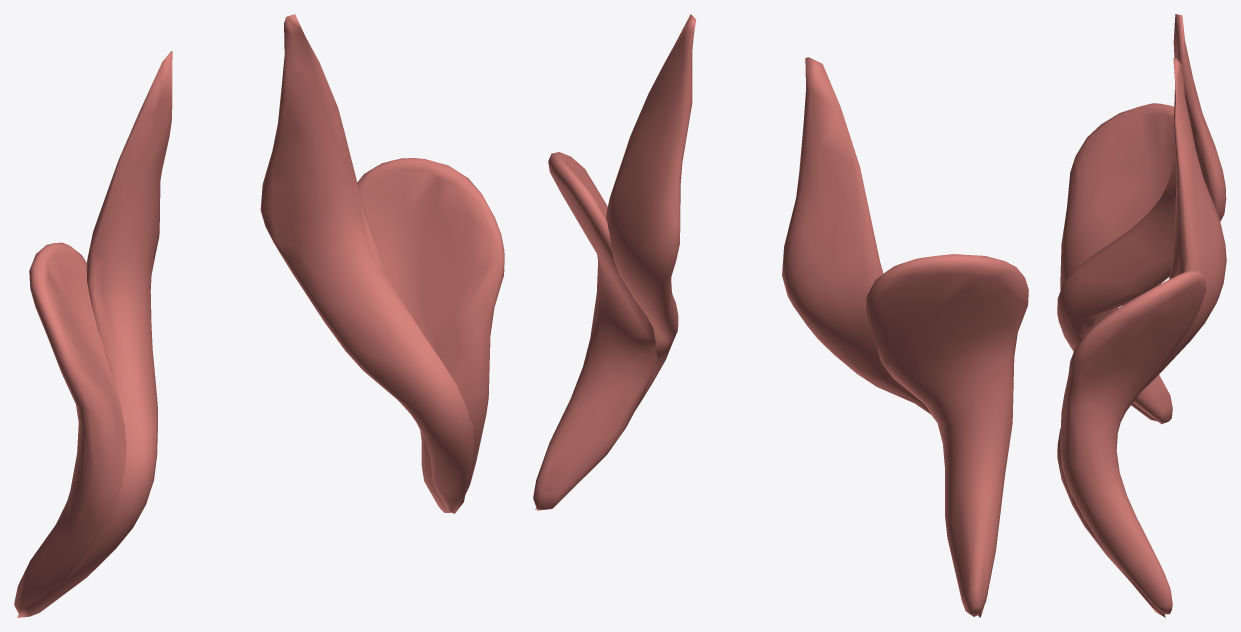
The model's file is abs.glb.
3 renders of one model, left to right at view 1: azimuth 30°, elevation 25°; view 2: azimuth 150°, elevation 25°; view 3: azimuth 270°, elevation 25°, orthographic. The views are drawn at different scales.
Visible parts, largest first — view 1: abs__selectable; view 2: abs__selectable; view 3: abs__selectable.
Part boxes in pixels (box(x1,y1,x2,y2)): abs__selectable: box(14, 14, 504, 617); abs__selectable: box(533, 14, 1028, 617); abs__selectable: box(1057, 14, 1226, 617).
Size of the model in its own units: 1.91 by 2.17 by 0.6804.
